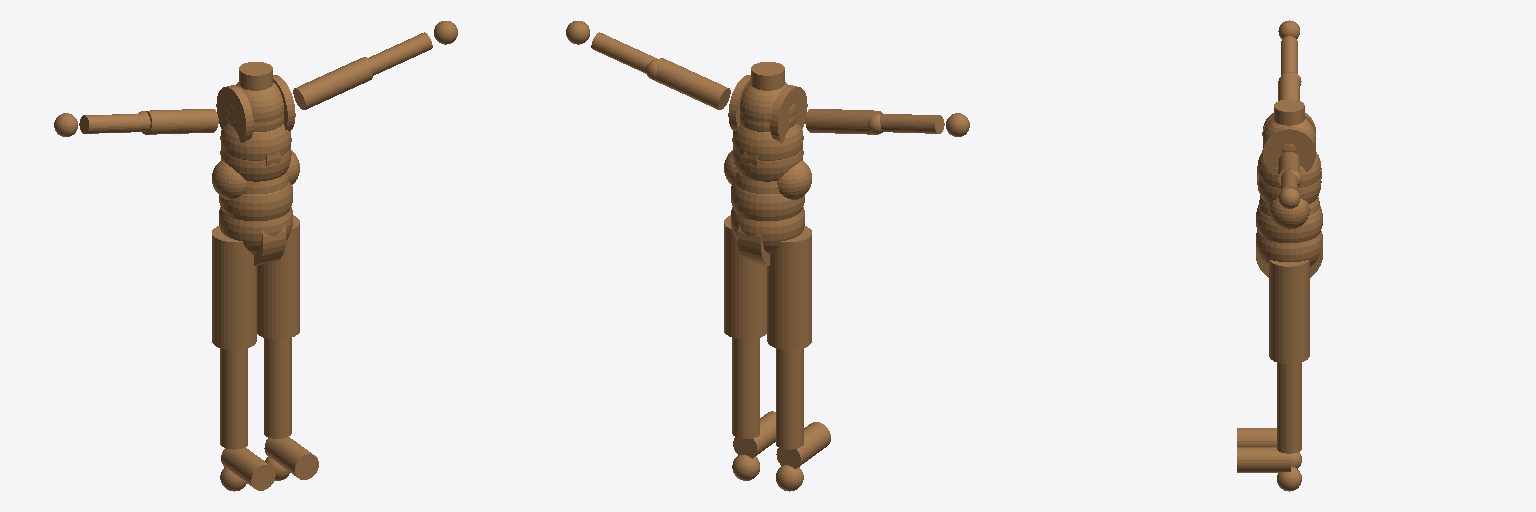
--- Render facts (derived) ---
Views: 3 orthographic renders of the robot side by side, from view 1: azimuth 30°, elevation 25°; view 2: azimuth 150°, elevation 25°; view 3: azimuth 270°, elevation 25°.
Robot: assistive-human-extracted — 75 links, 74 joints (41 revolute, 33 fixed); root link base_link; default pose: joints at zero except 2 at the middle of their limits (joint11 = 1.77, joint18 = -1.77).
Links seen in each view (by area): view 1: link31, link38, link32, link39, link20, link28---top-sphere, base_link---top-sphere, link13, link28---bottom-sphere, link35, link42, link3 (+9 smaller); view 2: link31, link38, link32, link39, link20, link28---top-sphere, base_link---top-sphere, link13, link28---bottom-sphere, link3, link35, link15 (+11 smaller); view 3: link38, link39, link6, link28---bottom-sphere, link28---top-sphere, link42, link38---top-sphere, base_link---top-sphere, link35, link7, base_link---bottom-sphere, link15 (+1 smaller).
Boxes of the visible links, x1=… form: link31: x1=212, y1=226, x2=256, y2=349; link38: x1=257, y1=215, x2=299, y2=339; link32: x1=220, y1=348, x2=247, y2=449; link39: x1=264, y1=338, x2=291, y2=438; link20: x1=293, y1=58, x2=372, y2=109; link28---top-sphere: x1=219, y1=182, x2=292, y2=220; base_link---top-sphere: x1=220, y1=124, x2=291, y2=160; link13: x1=142, y1=109, x2=218, y2=134; link28---bottom-sphere: x1=219, y1=207, x2=292, y2=254; link35: x1=221, y1=447, x2=275, y2=490; link42: x1=264, y1=437, x2=318, y2=479; link3: x1=216, y1=85, x2=253, y2=142; link31: x1=767, y1=226, x2=811, y2=349; link38: x1=724, y1=215, x2=766, y2=339; link32: x1=776, y1=348, x2=803, y2=449; link39: x1=732, y1=338, x2=759, y2=438; link20: x1=654, y1=58, x2=730, y2=109; link28---top-sphere: x1=731, y1=182, x2=804, y2=220; base_link---top-sphere: x1=732, y1=124, x2=803, y2=160; link13: x1=805, y1=109, x2=882, y2=134; link28---bottom-sphere: x1=731, y1=207, x2=804, y2=254; link3: x1=770, y1=85, x2=807, y2=142; link35: x1=776, y1=422, x2=830, y2=468; link15: x1=880, y1=114, x2=944, y2=133; link38: x1=1269, y1=260, x2=1309, y2=363; link39: x1=1277, y1=363, x2=1301, y2=453; link6: x1=1262, y1=126, x2=1315, y2=171; link28---bottom-sphere: x1=1256, y1=230, x2=1322, y2=266; link28---top-sphere: x1=1256, y1=205, x2=1322, y2=242; link42: x1=1237, y1=447, x2=1290, y2=472; link38---top-sphere: x1=1269, y1=199, x2=1309, y2=229; base_link---top-sphere: x1=1257, y1=152, x2=1321, y2=187; link35: x1=1237, y1=428, x2=1276, y2=446; link7: x1=1274, y1=99, x2=1304, y2=125; base_link---bottom-sphere: x1=1257, y1=179, x2=1321, y2=203; link15: x1=1281, y1=36, x2=1297, y2=75.
Size in the robot's own frame: 1.64 by 0.341 by 1.63 metres.
Geometry: only primitive shapes (box / cylinder / sphere) drawn; not drawn: 1 mesh visual (reference in a form the renderer does not follow).

The robot description file, URDF, robot "assistive-human-extracted":
<?xml version="1.0"?>
<robot name="assistive-human-extracted">
  <link name="base_link">
    <visual>
      <origin xyz="0.0 0.0 0.0" rpy="0.0 1.5707963267948966 -0.0"/>
      <geometry>
        <cylinder radius="0.127" length="0.056"/>
      </geometry>
      <material name="color-171-128-85-255">
        <color rgba="0.672940731048584 0.504705548286438 0.336470365524292 1.0"/>
      </material>
    </visual>
    <collision>
      <origin xyz="0.0 0.0 0.0" rpy="0.0 1.5707963267948966 -0.0"/>
      <geometry>
        <cylinder radius="0.127" length="0.056"/>
      </geometry>
    </collision>
    <inertial>
      <origin xyz="0.0 0.0 0.0" rpy="0.0 -0.0 0.0"/>
      <mass value="0.0"/>
      <inertia ixx="0.0" ixy="0.0" ixz="0.0" iyy="0.0" iyz="0.0" izz="0.0"/>
    </inertial>
  </link>
  <link name="base_link---top-sphere">
    <visual>
      <origin xyz="0 0 0" rpy="0.0 -0.0 0.0"/>
      <geometry>
        <sphere radius="0.127"/>
      </geometry>
      <material name="color-171-128-85-255">
        <color rgba="0.672940731048584 0.504705548286438 0.336470365524292 1.0"/>
      </material>
    </visual>
    <collision>
      <origin xyz="0 0 0" rpy="0.0 -0.0 0.0"/>
      <geometry>
        <sphere radius="0.127"/>
      </geometry>
    </collision>
    <inertial>
      <origin xyz="0 0 0" rpy="0.0 -0.0 0.0"/>
      <mass value="0.0"/>
      <inertia ixx="0" ixy="0.0" ixz="0.0" iyy="0" iyz="0.0" izz="0"/>
    </inertial>
  </link>
  <link name="base_link---bottom-sphere">
    <visual>
      <origin xyz="0 0 0" rpy="0.0 -0.0 0.0"/>
      <geometry>
        <sphere radius="0.127"/>
      </geometry>
      <material name="color-171-128-85-255">
        <color rgba="0.672940731048584 0.504705548286438 0.336470365524292 1.0"/>
      </material>
    </visual>
    <collision>
      <origin xyz="0 0 0" rpy="0.0 -0.0 0.0"/>
      <geometry>
        <sphere radius="0.127"/>
      </geometry>
    </collision>
    <inertial>
      <origin xyz="0 0 0" rpy="0.0 -0.0 0.0"/>
      <mass value="0.0"/>
      <inertia ixx="0" ixy="0.0" ixz="0.0" iyy="0" iyz="0.0" izz="0"/>
    </inertial>
  </link>
  <link name="link1">
    <inertial>
      <origin xyz="0.0 0.0 0.0" rpy="0.0 -0.0 0.0"/>
      <mass value="0.0"/>
      <inertia ixx="0.0" ixy="0.0" ixz="0.0" iyy="0.0" iyz="0.0" izz="0.0"/>
    </inertial>
  </link>
  <link name="link2">
    <inertial>
      <origin xyz="0.0 0.0 0.0" rpy="0.0 -0.0 0.0"/>
      <mass value="0.0"/>
      <inertia ixx="0.0" ixy="0.0" ixz="0.0" iyy="0.0" iyz="0.0" izz="0.0"/>
    </inertial>
  </link>
  <link name="link3">
    <visual>
      <origin xyz="-0.0853875 0.0 0.0" rpy="0.0 1.5707963267948966 -0.0"/>
      <geometry>
        <cylinder radius="0.106" length="0.031625"/>
      </geometry>
      <material name="color-171-128-85-255">
        <color rgba="0.672940731048584 0.504705548286438 0.336470365524292 1.0"/>
      </material>
    </visual>
    <collision>
      <origin xyz="-0.08538749814033508 0.0 0.0" rpy="0.0 1.5707963267948966 -0.0"/>
      <geometry>
        <cylinder radius="0.106" length="0.031625"/>
      </geometry>
    </collision>
    <inertial>
      <origin xyz="0.0 0.0 0.0" rpy="0.0 -0.0 0.0"/>
      <mass value="0.0"/>
      <inertia ixx="0.0" ixy="0.0" ixz="0.0" iyy="0.0" iyz="0.0" izz="0.0"/>
    </inertial>
  </link>
  <link name="link3---top-sphere">
    <visual>
      <origin xyz="0 0 0" rpy="0.0 -0.0 0.0"/>
      <geometry>
        <sphere radius="0.106"/>
      </geometry>
      <material name="color-171-128-85-255">
        <color rgba="0.672940731048584 0.504705548286438 0.336470365524292 1.0"/>
      </material>
    </visual>
    <collision>
      <origin xyz="0.0 0.0 0.0" rpy="0.0 -0.0 0.0"/>
      <geometry>
        <sphere radius="0.106"/>
      </geometry>
    </collision>
    <inertial>
      <origin xyz="0 0 0" rpy="0.0 -0.0 0.0"/>
      <mass value="0.0"/>
      <inertia ixx="0" ixy="0.0" ixz="0.0" iyy="0" iyz="0.0" izz="0"/>
    </inertial>
  </link>
  <link name="link3---bottom-sphere">
    <visual>
      <origin xyz="0 0 0" rpy="0.0 -0.0 0.0"/>
      <geometry>
        <sphere radius="0.106"/>
      </geometry>
      <material name="color-171-128-85-255">
        <color rgba="0.672940731048584 0.504705548286438 0.336470365524292 1.0"/>
      </material>
    </visual>
    <collision>
      <origin xyz="0.0 0.0 0.0" rpy="0.0 -0.0 0.0"/>
      <geometry>
        <sphere radius="0.106"/>
      </geometry>
    </collision>
    <inertial>
      <origin xyz="0 0 0" rpy="0.0 -0.0 0.0"/>
      <mass value="0.0"/>
      <inertia ixx="0" ixy="0.0" ixz="0.0" iyy="0" iyz="0.0" izz="0"/>
    </inertial>
  </link>
  <link name="link11">
    <inertial>
      <origin xyz="0.0 0.0 0.0" rpy="0.0 -0.0 0.0"/>
      <mass value="0.0"/>
      <inertia ixx="0.0" ixy="0.0" ixz="0.0" iyy="0.0" iyz="0.0" izz="0.0"/>
    </inertial>
  </link>
  <link name="link12">
    <inertial>
      <origin xyz="0.0 0.0 0.0" rpy="0.0 -0.0 0.0"/>
      <mass value="0.0"/>
      <inertia ixx="0.0" ixy="0.0" ixz="0.0" iyy="0.0" iyz="0.0" izz="0.0"/>
    </inertial>
  </link>
  <link name="link13">
    <visual>
      <origin xyz="0.0 0.0 -0.1395" rpy="0.0 -0.0 0.0"/>
      <geometry>
        <cylinder radius="0.043" length="0.279"/>
      </geometry>
      <material name="color-171-128-85-255">
        <color rgba="0.672940731048584 0.504705548286438 0.336470365524292 1.0"/>
      </material>
    </visual>
    <collision>
      <origin xyz="0.0 0.0 -0.13950000703334808" rpy="0.0 -0.0 0.0"/>
      <geometry>
        <cylinder radius="0.043" length="0.279"/>
      </geometry>
    </collision>
    <inertial>
      <origin xyz="0.0 0.0 0.0" rpy="0.0 -0.0 0.0"/>
      <mass value="0.0"/>
      <inertia ixx="0.0" ixy="0.0" ixz="0.0" iyy="0.0" iyz="0.0" izz="0.0"/>
    </inertial>
  </link>
  <link name="link13---top-sphere">
    <visual>
      <origin xyz="0 0 0" rpy="0.0 -0.0 0.0"/>
      <geometry>
        <sphere radius="0.043"/>
      </geometry>
      <material name="color-171-128-85-255">
        <color rgba="0.672940731048584 0.504705548286438 0.336470365524292 1.0"/>
      </material>
    </visual>
    <collision>
      <origin xyz="0.0 0.0 0.0" rpy="0.0 -0.0 0.0"/>
      <geometry>
        <sphere radius="0.043"/>
      </geometry>
    </collision>
    <inertial>
      <origin xyz="0 0 0" rpy="0.0 -0.0 0.0"/>
      <mass value="0.0"/>
      <inertia ixx="0" ixy="0.0" ixz="0.0" iyy="0" iyz="0.0" izz="0"/>
    </inertial>
  </link>
  <link name="link13---bottom-sphere">
    <visual>
      <origin xyz="0 0 0" rpy="0.0 -0.0 0.0"/>
      <geometry>
        <sphere radius="0.043"/>
      </geometry>
      <material name="color-171-128-85-255">
        <color rgba="0.672940731048584 0.504705548286438 0.336470365524292 1.0"/>
      </material>
    </visual>
    <collision>
      <origin xyz="0.0 0.0 0.0" rpy="0.0 -0.0 0.0"/>
      <geometry>
        <sphere radius="0.043"/>
      </geometry>
    </collision>
    <inertial>
      <origin xyz="0 0 0" rpy="0.0 -0.0 0.0"/>
      <mass value="0.0"/>
      <inertia ixx="0" ixy="0.0" ixz="0.0" iyy="0" iyz="0.0" izz="0"/>
    </inertial>
  </link>
  <link name="link14">
    <visual>
      <origin xyz="0.0 0.01 0.0" rpy="0.0 -0.0 0.0"/>
      <geometry>
        <sphere radius="0.038"/>
      </geometry>
      <material name="color-171-128-85-255">
        <color rgba="0.672940731048584 0.504705548286438 0.336470365524292 1.0"/>
      </material>
    </visual>
    <inertial>
      <origin xyz="0.0 0.0 0.0" rpy="0.0 -0.0 0.0"/>
      <mass value="0.0"/>
      <inertia ixx="0.0" ixy="0.0" ixz="0.0" iyy="0.0" iyz="0.0" izz="0.0"/>
    </inertial>
  </link>
  <link name="link15">
    <visual>
      <origin xyz="0.0 0.0 -0.1285" rpy="0.0 -0.0 0.0"/>
      <geometry>
        <cylinder radius="0.033" length="0.257"/>
      </geometry>
      <material name="color-171-128-85-255">
        <color rgba="0.672940731048584 0.504705548286438 0.336470365524292 1.0"/>
      </material>
    </visual>
    <collision>
      <origin xyz="0.0 0.0 -0.12849999964237213" rpy="0.0 -0.0 0.0"/>
      <geometry>
        <cylinder radius="0.033" length="0.257"/>
      </geometry>
    </collision>
    <inertial>
      <origin xyz="0.0 0.0 0.0" rpy="0.0 -0.0 0.0"/>
      <mass value="0.0"/>
      <inertia ixx="0.0" ixy="0.0" ixz="0.0" iyy="0.0" iyz="0.0" izz="0.0"/>
    </inertial>
  </link>
  <link name="link15---top-sphere">
    <visual>
      <origin xyz="0 0 0" rpy="0.0 -0.0 0.0"/>
      <geometry>
        <sphere radius="0.033"/>
      </geometry>
      <material name="color-171-128-85-255">
        <color rgba="0.672940731048584 0.504705548286438 0.336470365524292 1.0"/>
      </material>
    </visual>
    <collision>
      <origin xyz="0.0 0.0 0.0" rpy="0.0 -0.0 0.0"/>
      <geometry>
        <sphere radius="0.033"/>
      </geometry>
    </collision>
    <inertial>
      <origin xyz="0 0 0" rpy="0.0 -0.0 0.0"/>
      <mass value="0.0"/>
      <inertia ixx="0" ixy="0.0" ixz="0.0" iyy="0" iyz="0.0" izz="0"/>
    </inertial>
  </link>
  <link name="link15---bottom-sphere">
    <visual>
      <origin xyz="0 0 0" rpy="0.0 -0.0 0.0"/>
      <geometry>
        <sphere radius="0.033"/>
      </geometry>
      <material name="color-171-128-85-255">
        <color rgba="0.672940731048584 0.504705548286438 0.336470365524292 1.0"/>
      </material>
    </visual>
    <collision>
      <origin xyz="0.0 0.0 0.0" rpy="0.0 -0.0 0.0"/>
      <geometry>
        <sphere radius="0.033"/>
      </geometry>
    </collision>
    <inertial>
      <origin xyz="0 0 0" rpy="0.0 -0.0 0.0"/>
      <mass value="0.0"/>
      <inertia ixx="0" ixy="0.0" ixz="0.0" iyy="0" iyz="0.0" izz="0"/>
    </inertial>
  </link>
  <link name="link16">
    <inertial>
      <origin xyz="0.0 0.0 0.0" rpy="0.0 -0.0 0.0"/>
      <mass value="0.0"/>
      <inertia ixx="0.0" ixy="0.0" ixz="0.0" iyy="0.0" iyz="0.0" izz="0.0"/>
    </inertial>
  </link>
  <link name="link17">
    <visual>
      <origin xyz="0.0 0.0 -0.043" rpy="0.0 -0.0 0.0"/>
      <geometry>
        <sphere radius="0.043"/>
      </geometry>
      <material name="color-171-128-85-255">
        <color rgba="0.672940731048584 0.504705548286438 0.336470365524292 1.0"/>
      </material>
    </visual>
    <collision>
      <origin xyz="0.0 0.0 -0.0430000014603138" rpy="0.0 -0.0 0.0"/>
      <geometry>
        <sphere radius="0.043"/>
      </geometry>
    </collision>
    <inertial>
      <origin xyz="0.0 0.0 0.0" rpy="0.0 -0.0 0.0"/>
      <mass value="0.0"/>
      <inertia ixx="0.0" ixy="0.0" ixz="0.0" iyy="0.0" iyz="0.0" izz="0.0"/>
    </inertial>
  </link>
  <link name="link4">
    <inertial>
      <origin xyz="0.0 0.0 0.0" rpy="0.0 -0.0 0.0"/>
      <mass value="0.0"/>
      <inertia ixx="0.0" ixy="0.0" ixz="0.0" iyy="0.0" iyz="0.0" izz="0.0"/>
    </inertial>
  </link>
  <link name="link5">
    <inertial>
      <origin xyz="0.0 0.0 0.0" rpy="0.0 -0.0 0.0"/>
      <mass value="0.0"/>
      <inertia ixx="0.0" ixy="0.0" ixz="0.0" iyy="0.0" iyz="0.0" izz="0.0"/>
    </inertial>
  </link>
  <link name="link6">
    <visual>
      <origin xyz="0.0853875 0.0 0.0" rpy="0.0 1.5707963267948966 -0.0"/>
      <geometry>
        <cylinder radius="0.106" length="0.031625"/>
      </geometry>
      <material name="color-171-128-85-255">
        <color rgba="0.672940731048584 0.504705548286438 0.336470365524292 1.0"/>
      </material>
    </visual>
    <collision>
      <origin xyz="0.08538749814033508 0.0 0.0" rpy="0.0 1.5707963267948966 -0.0"/>
      <geometry>
        <cylinder radius="0.106" length="0.031625"/>
      </geometry>
    </collision>
    <inertial>
      <origin xyz="0.0 0.0 0.0" rpy="0.0 -0.0 0.0"/>
      <mass value="0.0"/>
      <inertia ixx="0.0" ixy="0.0" ixz="0.0" iyy="0.0" iyz="0.0" izz="0.0"/>
    </inertial>
  </link>
  <link name="link6---top-sphere">
    <visual>
      <origin xyz="0 0 0" rpy="0.0 -0.0 0.0"/>
      <geometry>
        <sphere radius="0.106"/>
      </geometry>
      <material name="color-171-128-85-255">
        <color rgba="0.672940731048584 0.504705548286438 0.336470365524292 1.0"/>
      </material>
    </visual>
    <collision>
      <origin xyz="0.0 0.0 0.0" rpy="0.0 -0.0 0.0"/>
      <geometry>
        <sphere radius="0.106"/>
      </geometry>
    </collision>
    <inertial>
      <origin xyz="0 0 0" rpy="0.0 -0.0 0.0"/>
      <mass value="0.0"/>
      <inertia ixx="0" ixy="0.0" ixz="0.0" iyy="0" iyz="0.0" izz="0"/>
    </inertial>
  </link>
  <link name="link6---bottom-sphere">
    <visual>
      <origin xyz="0 0 0" rpy="0.0 -0.0 0.0"/>
      <geometry>
        <sphere radius="0.106"/>
      </geometry>
      <material name="color-171-128-85-255">
        <color rgba="0.672940731048584 0.504705548286438 0.336470365524292 1.0"/>
      </material>
    </visual>
    <collision>
      <origin xyz="0.0 0.0 0.0" rpy="0.0 -0.0 0.0"/>
      <geometry>
        <sphere radius="0.106"/>
      </geometry>
    </collision>
    <inertial>
      <origin xyz="0 0 0" rpy="0.0 -0.0 0.0"/>
      <mass value="0.0"/>
      <inertia ixx="0" ixy="0.0" ixz="0.0" iyy="0" iyz="0.0" izz="0"/>
    </inertial>
  </link>
  <link name="link18">
    <inertial>
      <origin xyz="0.0 0.0 0.0" rpy="0.0 -0.0 0.0"/>
      <mass value="0.0"/>
      <inertia ixx="0.0" ixy="0.0" ixz="0.0" iyy="0.0" iyz="0.0" izz="0.0"/>
    </inertial>
  </link>
  <link name="link19">
    <inertial>
      <origin xyz="0.0 0.0 0.0" rpy="0.0 -0.0 0.0"/>
      <mass value="0.0"/>
      <inertia ixx="0.0" ixy="0.0" ixz="0.0" iyy="0.0" iyz="0.0" izz="0.0"/>
    </inertial>
  </link>
  <link name="link20">
    <visual>
      <origin xyz="0.0 0.0 -0.1395" rpy="0.0 -0.0 0.0"/>
      <geometry>
        <cylinder radius="0.043" length="0.279"/>
      </geometry>
      <material name="color-171-128-85-255">
        <color rgba="0.672940731048584 0.504705548286438 0.336470365524292 1.0"/>
      </material>
    </visual>
    <collision>
      <origin xyz="0.0 0.0 -0.13950000703334808" rpy="0.0 -0.0 0.0"/>
      <geometry>
        <cylinder radius="0.043" length="0.279"/>
      </geometry>
    </collision>
    <inertial>
      <origin xyz="0.0 0.0 0.0" rpy="0.0 -0.0 0.0"/>
      <mass value="0.0"/>
      <inertia ixx="0.0" ixy="0.0" ixz="0.0" iyy="0.0" iyz="0.0" izz="0.0"/>
    </inertial>
  </link>
  <link name="link20---top-sphere">
    <visual>
      <origin xyz="0 0 0" rpy="0.0 -0.0 0.0"/>
      <geometry>
        <sphere radius="0.043"/>
      </geometry>
      <material name="color-171-128-85-255">
        <color rgba="0.672940731048584 0.504705548286438 0.336470365524292 1.0"/>
      </material>
    </visual>
    <collision>
      <origin xyz="0.0 0.0 0.0" rpy="0.0 -0.0 0.0"/>
      <geometry>
        <sphere radius="0.043"/>
      </geometry>
    </collision>
    <inertial>
      <origin xyz="0 0 0" rpy="0.0 -0.0 0.0"/>
      <mass value="0.0"/>
      <inertia ixx="0" ixy="0.0" ixz="0.0" iyy="0" iyz="0.0" izz="0"/>
    </inertial>
  </link>
  <link name="link20---bottom-sphere">
    <visual>
      <origin xyz="0 0 0" rpy="0.0 -0.0 0.0"/>
      <geometry>
        <sphere radius="0.043"/>
      </geometry>
      <material name="color-171-128-85-255">
        <color rgba="0.672940731048584 0.504705548286438 0.336470365524292 1.0"/>
      </material>
    </visual>
    <collision>
      <origin xyz="0.0 0.0 0.0" rpy="0.0 -0.0 0.0"/>
      <geometry>
        <sphere radius="0.043"/>
      </geometry>
    </collision>
    <inertial>
      <origin xyz="0 0 0" rpy="0.0 -0.0 0.0"/>
      <mass value="0.0"/>
      <inertia ixx="0" ixy="0.0" ixz="0.0" iyy="0" iyz="0.0" izz="0"/>
    </inertial>
  </link>
  <link name="link21">
    <visual>
      <origin xyz="0.0 0.01 0.0" rpy="0.0 -0.0 0.0"/>
      <geometry>
        <sphere radius="0.038"/>
      </geometry>
      <material name="color-171-128-85-255">
        <color rgba="0.672940731048584 0.504705548286438 0.336470365524292 1.0"/>
      </material>
    </visual>
    <inertial>
      <origin xyz="0.0 0.0 0.0" rpy="0.0 -0.0 0.0"/>
      <mass value="0.0"/>
      <inertia ixx="0.0" ixy="0.0" ixz="0.0" iyy="0.0" iyz="0.0" izz="0.0"/>
    </inertial>
  </link>
  <link name="link22">
    <visual>
      <origin xyz="0.0 0.0 -0.1285" rpy="0.0 -0.0 0.0"/>
      <geometry>
        <cylinder radius="0.033" length="0.257"/>
      </geometry>
      <material name="color-171-128-85-255">
        <color rgba="0.672940731048584 0.504705548286438 0.336470365524292 1.0"/>
      </material>
    </visual>
    <collision>
      <origin xyz="0.0 0.0 -0.12849999964237213" rpy="0.0 -0.0 0.0"/>
      <geometry>
        <cylinder radius="0.033" length="0.257"/>
      </geometry>
    </collision>
    <inertial>
      <origin xyz="0.0 0.0 0.0" rpy="0.0 -0.0 0.0"/>
      <mass value="0.0"/>
      <inertia ixx="0.0" ixy="0.0" ixz="0.0" iyy="0.0" iyz="0.0" izz="0.0"/>
    </inertial>
  </link>
  <link name="link22---top-sphere">
    <visual>
      <origin xyz="0 0 0" rpy="0.0 -0.0 0.0"/>
      <geometry>
        <sphere radius="0.033"/>
      </geometry>
      <material name="color-171-128-85-255">
        <color rgba="0.672940731048584 0.504705548286438 0.336470365524292 1.0"/>
      </material>
    </visual>
    <collision>
      <origin xyz="0.0 0.0 0.0" rpy="0.0 -0.0 0.0"/>
      <geometry>
        <sphere radius="0.033"/>
      </geometry>
    </collision>
    <inertial>
      <origin xyz="0 0 0" rpy="0.0 -0.0 0.0"/>
      <mass value="0.0"/>
      <inertia ixx="0" ixy="0.0" ixz="0.0" iyy="0" iyz="0.0" izz="0"/>
    </inertial>
  </link>
  <link name="link22---bottom-sphere">
    <visual>
      <origin xyz="0 0 0" rpy="0.0 -0.0 0.0"/>
      <geometry>
        <sphere radius="0.033"/>
      </geometry>
      <material name="color-171-128-85-255">
        <color rgba="0.672940731048584 0.504705548286438 0.336470365524292 1.0"/>
      </material>
    </visual>
    <collision>
      <origin xyz="0.0 0.0 0.0" rpy="0.0 -0.0 0.0"/>
      <geometry>
        <sphere radius="0.033"/>
      </geometry>
    </collision>
    <inertial>
      <origin xyz="0 0 0" rpy="0.0 -0.0 0.0"/>
      <mass value="0.0"/>
      <inertia ixx="0" ixy="0.0" ixz="0.0" iyy="0" iyz="0.0" izz="0"/>
    </inertial>
  </link>
  <link name="link23">
    <inertial>
      <origin xyz="0.0 0.0 0.0" rpy="0.0 -0.0 0.0"/>
      <mass value="0.0"/>
      <inertia ixx="0.0" ixy="0.0" ixz="0.0" iyy="0.0" iyz="0.0" izz="0.0"/>
    </inertial>
  </link>
  <link name="link24">
    <visual>
      <origin xyz="0.0 0.0 -0.043" rpy="0.0 -0.0 0.0"/>
      <geometry>
        <sphere radius="0.043"/>
      </geometry>
      <material name="color-171-128-85-255">
        <color rgba="0.672940731048584 0.504705548286438 0.336470365524292 1.0"/>
      </material>
    </visual>
    <collision>
      <origin xyz="0.0 0.0 -0.0430000014603138" rpy="0.0 -0.0 0.0"/>
      <geometry>
        <sphere radius="0.043"/>
      </geometry>
    </collision>
    <inertial>
      <origin xyz="0.0 0.0 0.0" rpy="0.0 -0.0 0.0"/>
      <mass value="0.0"/>
      <inertia ixx="0.0" ixy="0.0" ixz="0.0" iyy="0.0" iyz="0.0" izz="0.0"/>
    </inertial>
  </link>
  <link name="link7">
    <visual>
      <origin xyz="0.0 0.0 0.09000000000000002" rpy="0.0 -0.0 0.0"/>
      <geometry>
        <cylinder radius="0.06" length="0.124"/>
      </geometry>
      <material name="color-171-128-85-255">
        <color rgba="0.672940731048584 0.504705548286438 0.336470365524292 1.0"/>
      </material>
    </visual>
    <collision>
      <origin xyz="0.0 0.0 0.09000000357627869" rpy="0.0 -0.0 0.0"/>
      <geometry>
        <cylinder radius="0.06" length="0.124"/>
      </geometry>
    </collision>
    <inertial>
      <origin xyz="0.0 0.0 0.0" rpy="0.0 -0.0 0.0"/>
      <mass value="0.0"/>
      <inertia ixx="0.0" ixy="0.0" ixz="0.0" iyy="0.0" iyz="0.0" izz="0.0"/>
    </inertial>
  </link>
  <link name="link7---top-sphere">
    <visual>
      <origin xyz="0 0 0" rpy="0.0 -0.0 0.0"/>
      <geometry>
        <sphere radius="0.06"/>
      </geometry>
      <material name="color-171-128-85-255">
        <color rgba="0.672940731048584 0.504705548286438 0.336470365524292 1.0"/>
      </material>
    </visual>
    <collision>
      <origin xyz="0.0 0.0 0.0" rpy="0.0 -0.0 0.0"/>
      <geometry>
        <sphere radius="0.06"/>
      </geometry>
    </collision>
    <inertial>
      <origin xyz="0 0 0" rpy="0.0 -0.0 0.0"/>
      <mass value="0.0"/>
      <inertia ixx="0" ixy="0.0" ixz="0.0" iyy="0" iyz="0.0" izz="0"/>
    </inertial>
  </link>
  <link name="link7---bottom-sphere">
    <visual>
      <origin xyz="0 0 0" rpy="0.0 -0.0 0.0"/>
      <geometry>
        <sphere radius="0.06"/>
      </geometry>
      <material name="color-171-128-85-255">
        <color rgba="0.672940731048584 0.504705548286438 0.336470365524292 1.0"/>
      </material>
    </visual>
    <collision>
      <origin xyz="0.0 0.0 0.0" rpy="0.0 -0.0 0.0"/>
      <geometry>
        <sphere radius="0.06"/>
      </geometry>
    </collision>
    <inertial>
      <origin xyz="0 0 0" rpy="0.0 -0.0 0.0"/>
      <mass value="0.0"/>
      <inertia ixx="0" ixy="0.0" ixz="0.0" iyy="0" iyz="0.0" izz="0"/>
    </inertial>
  </link>
  <link name="link8">
    <inertial>
      <origin xyz="0.0 0.0 0.0" rpy="0.0 -0.0 0.0"/>
      <mass value="0.0"/>
      <inertia ixx="0.0" ixy="0.0" ixz="0.0" iyy="0.0" iyz="0.0" izz="0.0"/>
    </inertial>
  </link>
  <link name="link9">
    <inertial>
      <origin xyz="0.0 0.0 0.0" rpy="0.0 -0.0 0.0"/>
      <mass value="0.0"/>
      <inertia ixx="0.0" ixy="0.0" ixz="0.0" iyy="0.0" iyz="0.0" izz="0.0"/>
    </inertial>
  </link>
  <link name="link10">
    <visual>
      <origin xyz="0.09 0.08 -0.060000000000000005" rpy="1.5707963267948963 -0.0 0.0"/>
      <geometry>
        <mesh filename="[local-path]/multitask-personalization/venv/lib/python3.10/site-packages/assistive_gym/envs/assets/head_female_male/BaseHeadMeshes_v5_male_cropped_reduced_compressed.obj" scale="0.89 0.89 0.89"/>
      </geometry>
      <material name="color-171-128-85-255">
        <color rgba="0.672940731048584 0.504705548286438 0.336470365524292 1.0"/>
      </material>
    </visual>
    <collision>
      <origin xyz="0.09000000357627869 0.07999999821186066 -0.05999999865889549" rpy="1.5707963267948966 -0.0 0.0"/>
      <geometry>
        <sphere radius="0.89"/>
      </geometry>
    </collision>
    <inertial>
      <origin xyz="0.0 0.0 0.0" rpy="0.0 -0.0 0.0"/>
      <mass value="0.0"/>
      <inertia ixx="0.0" ixy="0.0" ixz="0.0" iyy="0.0" iyz="0.0" izz="0.0"/>
    </inertial>
  </link>
  <link name="link25">
    <visual>
      <origin xyz="0.0 0.0 0.0" rpy="0.0 1.5707963267948966 -0.0"/>
      <geometry>
        <cylinder radius="0.1205" length="0.049"/>
      </geometry>
      <material name="color-171-128-85-255">
        <color rgba="0.672940731048584 0.504705548286438 0.336470365524292 1.0"/>
      </material>
    </visual>
    <collision>
      <origin xyz="0.0 0.0 0.0" rpy="0.0 1.5707963267948966 -0.0"/>
      <geometry>
        <cylinder radius="0.1205" length="0.049"/>
      </geometry>
    </collision>
    <inertial>
      <origin xyz="0.0 0.0 0.0" rpy="0.0 -0.0 0.0"/>
      <mass value="0.0"/>
      <inertia ixx="0.0" ixy="0.0" ixz="0.0" iyy="0.0" iyz="0.0" izz="0.0"/>
    </inertial>
  </link>
  <link name="link25---top-sphere">
    <visual>
      <origin xyz="0 0 0" rpy="0.0 -0.0 0.0"/>
      <geometry>
        <sphere radius="0.1205"/>
      </geometry>
      <material name="color-171-128-85-255">
        <color rgba="0.672940731048584 0.504705548286438 0.336470365524292 1.0"/>
      </material>
    </visual>
    <collision>
      <origin xyz="0.0 0.0 0.0" rpy="0.0 -0.0 0.0"/>
      <geometry>
        <sphere radius="0.1205"/>
      </geometry>
    </collision>
    <inertial>
      <origin xyz="0 0 0" rpy="0.0 -0.0 0.0"/>
      <mass value="0.0"/>
      <inertia ixx="0" ixy="0.0" ixz="0.0" iyy="0" iyz="0.0" izz="0"/>
    </inertial>
  </link>
  <link name="link25---bottom-sphere">
    <visual>
      <origin xyz="0 0 0" rpy="0.0 -0.0 0.0"/>
      <geometry>
        <sphere radius="0.1205"/>
      </geometry>
      <material name="color-171-128-85-255">
        <color rgba="0.672940731048584 0.504705548286438 0.336470365524292 1.0"/>
      </material>
    </visual>
    <collision>
      <origin xyz="0.0 0.0 0.0" rpy="0.0 -0.0 0.0"/>
      <geometry>
        <sphere radius="0.1205"/>
      </geometry>
    </collision>
    <inertial>
      <origin xyz="0 0 0" rpy="0.0 -0.0 0.0"/>
      <mass value="0.0"/>
      <inertia ixx="0" ixy="0.0" ixz="0.0" iyy="0" iyz="0.0" izz="0"/>
    </inertial>
  </link>
  <link name="link26">
    <inertial>
      <origin xyz="0.0 0.0 0.0" rpy="0.0 -0.0 0.0"/>
      <mass value="0.0"/>
      <inertia ixx="0.0" ixy="0.0" ixz="0.0" iyy="0.0" iyz="0.0" izz="0.0"/>
    </inertial>
  </link>
  <link name="link27">
    <inertial>
      <origin xyz="0.0 0.0 0.0" rpy="0.0 -0.0 0.0"/>
      <mass value="0.0"/>
      <inertia ixx="0.0" ixy="0.0" ixz="0.0" iyy="0.0" iyz="0.0" izz="0.0"/>
    </inertial>
  </link>
  <link name="link28">
    <visual>
      <origin xyz="0.0 0.0 -0.08125" rpy="0.0 1.5707963267948966 -0.0"/>
      <geometry>
        <cylinder radius="0.1335" length="0.094"/>
      </geometry>
      <material name="color-171-128-85-255">
        <color rgba="0.672940731048584 0.504705548286438 0.336470365524292 1.0"/>
      </material>
    </visual>
    <collision>
      <origin xyz="0.0 0.0 -0.08124999701976776" rpy="0.0 1.5707963267948966 -0.0"/>
      <geometry>
        <cylinder radius="0.1335" length="0.094"/>
      </geometry>
    </collision>
    <inertial>
      <origin xyz="0.0 0.0 0.0" rpy="0.0 -0.0 0.0"/>
      <mass value="0.0"/>
      <inertia ixx="0.0" ixy="0.0" ixz="0.0" iyy="0.0" iyz="0.0" izz="0.0"/>
    </inertial>
  </link>
  <link name="link28---top-sphere">
    <visual>
      <origin xyz="0 0 0" rpy="0.0 -0.0 0.0"/>
      <geometry>
        <sphere radius="0.1335"/>
      </geometry>
      <material name="color-171-128-85-255">
        <color rgba="0.672940731048584 0.504705548286438 0.336470365524292 1.0"/>
      </material>
    </visual>
    <collision>
      <origin xyz="0.0 0.0 0.0" rpy="0.0 -0.0 0.0"/>
      <geometry>
        <sphere radius="0.1335"/>
      </geometry>
    </collision>
    <inertial>
      <origin xyz="0 0 0" rpy="0.0 -0.0 0.0"/>
      <mass value="0.0"/>
      <inertia ixx="0" ixy="0.0" ixz="0.0" iyy="0" iyz="0.0" izz="0"/>
    </inertial>
  </link>
  <link name="link28---bottom-sphere">
    <visual>
      <origin xyz="0 0 0" rpy="0.0 -0.0 0.0"/>
      <geometry>
        <sphere radius="0.1335"/>
      </geometry>
      <material name="color-171-128-85-255">
        <color rgba="0.672940731048584 0.504705548286438 0.336470365524292 1.0"/>
      </material>
    </visual>
    <collision>
      <origin xyz="0.0 0.0 0.0" rpy="0.0 -0.0 0.0"/>
      <geometry>
        <sphere radius="0.1335"/>
      </geometry>
    </collision>
    <inertial>
      <origin xyz="0 0 0" rpy="0.0 -0.0 0.0"/>
      <mass value="0.0"/>
      <inertia ixx="0" ixy="0.0" ixz="0.0" iyy="0" iyz="0.0" izz="0"/>
    </inertial>
  </link>
  <link name="link29">
    <inertial>
      <origin xyz="0.0 0.0 0.0" rpy="0.0 -0.0 0.0"/>
      <mass value="0.0"/>
      <inertia ixx="0.0" ixy="0.0" ixz="0.0" iyy="0.0" iyz="0.0" izz="0.0"/>
    </inertial>
  </link>
  <link name="link30">
    <inertial>
      <origin xyz="0.0 0.0 0.0" rpy="0.0 -0.0 0.0"/>
      <mass value="0.0"/>
      <inertia ixx="0.0" ixy="0.0" ixz="0.0" iyy="0.0" iyz="0.0" izz="0.0"/>
    </inertial>
  </link>
  <link name="link31">
    <visual>
      <origin xyz="0.0 0.0 -0.212" rpy="0.0 -0.0 0.0"/>
      <geometry>
        <cylinder radius="0.08" length="0.424"/>
      </geometry>
      <material name="color-171-128-85-255">
        <color rgba="0.672940731048584 0.504705548286438 0.336470365524292 1.0"/>
      </material>
    </visual>
    <collision>
      <origin xyz="0.0 0.0 -0.21199999749660492" rpy="0.0 -0.0 0.0"/>
      <geometry>
        <cylinder radius="0.08" length="0.424"/>
      </geometry>
    </collision>
    <inertial>
      <origin xyz="0.0 0.0 0.0" rpy="0.0 -0.0 0.0"/>
      <mass value="0.0"/>
      <inertia ixx="0.0" ixy="0.0" ixz="0.0" iyy="0.0" iyz="0.0" izz="0.0"/>
    </inertial>
  </link>
  <link name="link31---top-sphere">
    <visual>
      <origin xyz="0 0 0" rpy="0.0 -0.0 0.0"/>
      <geometry>
        <sphere radius="0.08"/>
      </geometry>
      <material name="color-171-128-85-255">
        <color rgba="0.672940731048584 0.504705548286438 0.336470365524292 1.0"/>
      </material>
    </visual>
    <collision>
      <origin xyz="0.0 0.0 0.0" rpy="0.0 -0.0 0.0"/>
      <geometry>
        <sphere radius="0.08"/>
      </geometry>
    </collision>
    <inertial>
      <origin xyz="0 0 0" rpy="0.0 -0.0 0.0"/>
      <mass value="0.0"/>
      <inertia ixx="0" ixy="0.0" ixz="0.0" iyy="0" iyz="0.0" izz="0"/>
    </inertial>
  </link>
  <link name="link31---bottom-sphere">
    <visual>
      <origin xyz="0 0 0" rpy="0.0 -0.0 0.0"/>
      <geometry>
        <sphere radius="0.08"/>
      </geometry>
      <material name="color-171-128-85-255">
        <color rgba="0.672940731048584 0.504705548286438 0.336470365524292 1.0"/>
      </material>
    </visual>
    <collision>
      <origin xyz="0.0 0.0 0.0" rpy="0.0 -0.0 0.0"/>
      <geometry>
        <sphere radius="0.08"/>
      </geometry>
    </collision>
    <inertial>
      <origin xyz="0 0 0" rpy="0.0 -0.0 0.0"/>
      <mass value="0.0"/>
      <inertia ixx="0" ixy="0.0" ixz="0.0" iyy="0" iyz="0.0" izz="0"/>
    </inertial>
  </link>
  <link name="link32">
    <visual>
      <origin xyz="0.0 0.0 -0.2015" rpy="0.0 -0.0 0.0"/>
      <geometry>
        <cylinder radius="0.05" length="0.403"/>
      </geometry>
      <material name="color-171-128-85-255">
        <color rgba="0.672940731048584 0.504705548286438 0.336470365524292 1.0"/>
      </material>
    </visual>
    <collision>
      <origin xyz="0.0 0.0 -0.20149999856948853" rpy="0.0 -0.0 0.0"/>
      <geometry>
        <cylinder radius="0.05" length="0.403"/>
      </geometry>
    </collision>
    <inertial>
      <origin xyz="0.0 0.0 0.0" rpy="0.0 -0.0 0.0"/>
      <mass value="0.0"/>
      <inertia ixx="0.0" ixy="0.0" ixz="0.0" iyy="0.0" iyz="0.0" izz="0.0"/>
    </inertial>
  </link>
  <link name="link32---top-sphere">
    <visual>
      <origin xyz="0 0 0" rpy="0.0 -0.0 0.0"/>
      <geometry>
        <sphere radius="0.05"/>
      </geometry>
      <material name="color-171-128-85-255">
        <color rgba="0.672940731048584 0.504705548286438 0.336470365524292 1.0"/>
      </material>
    </visual>
    <collision>
      <origin xyz="0.0 0.0 0.0" rpy="0.0 -0.0 0.0"/>
      <geometry>
        <sphere radius="0.05"/>
      </geometry>
    </collision>
    <inertial>
      <origin xyz="0 0 0" rpy="0.0 -0.0 0.0"/>
      <mass value="0.0"/>
      <inertia ixx="0" ixy="0.0" ixz="0.0" iyy="0" iyz="0.0" izz="0"/>
    </inertial>
  </link>
  <link name="link32---bottom-sphere">
    <visual>
      <origin xyz="0 0 0" rpy="0.0 -0.0 0.0"/>
      <geometry>
        <sphere radius="0.05"/>
      </geometry>
      <material name="color-171-128-85-255">
        <color rgba="0.672940731048584 0.504705548286438 0.336470365524292 1.0"/>
      </material>
    </visual>
    <collision>
      <origin xyz="0.0 0.0 0.0" rpy="0.0 -0.0 0.0"/>
      <geometry>
        <sphere radius="0.05"/>
      </geometry>
    </collision>
    <inertial>
      <origin xyz="0 0 0" rpy="0.0 -0.0 0.0"/>
      <mass value="0.0"/>
      <inertia ixx="0" ixy="0.0" ixz="0.0" iyy="0" iyz="0.0" izz="0"/>
    </inertial>
  </link>
  <link name="link33">
    <inertial>
      <origin xyz="0.0 0.0 0.0" rpy="0.0 -0.0 0.0"/>
      <mass value="0.0"/>
      <inertia ixx="0.0" ixy="0.0" ixz="0.0" iyy="0.0" iyz="0.0" izz="0.0"/>
    </inertial>
  </link>
  <link name="link34">
    <inertial>
      <origin xyz="0.0 0.0 0.0" rpy="0.0 -0.0 0.0"/>
      <mass value="0.0"/>
      <inertia ixx="0.0" ixy="0.0" ixz="0.0" iyy="0.0" iyz="0.0" izz="0.0"/>
    </inertial>
  </link>
  <link name="link35">
    <visual>
      <origin xyz="0.0 -0.1 -0.025" rpy="1.5707963267948963 -0.0 0.0"/>
      <geometry>
        <cylinder radius="0.05" length="0.215"/>
      </geometry>
      <material name="color-171-128-85-255">
        <color rgba="0.672940731048584 0.504705548286438 0.336470365524292 1.0"/>
      </material>
    </visual>
    <collision>
      <origin xyz="0.0 -0.10000000149011612 -0.02500000037252903" rpy="1.5707963267948966 -0.0 0.0"/>
      <geometry>
        <cylinder radius="0.05" length="0.215"/>
      </geometry>
    </collision>
    <inertial>
      <origin xyz="0.0 0.0 0.0" rpy="0.0 -0.0 0.0"/>
      <mass value="0.0"/>
      <inertia ixx="0.0" ixy="0.0" ixz="0.0" iyy="0.0" iyz="0.0" izz="0.0"/>
    </inertial>
  </link>
  <link name="link35---top-sphere">
    <visual>
      <origin xyz="0 0 0" rpy="0.0 -0.0 0.0"/>
      <geometry>
        <sphere radius="0.05"/>
      </geometry>
      <material name="color-171-128-85-255">
        <color rgba="0.672940731048584 0.504705548286438 0.336470365524292 1.0"/>
      </material>
    </visual>
    <collision>
      <origin xyz="0.0 0.0 0.0" rpy="0.0 -0.0 0.0"/>
      <geometry>
        <sphere radius="0.05"/>
      </geometry>
    </collision>
    <inertial>
      <origin xyz="0 0 0" rpy="0.0 -0.0 0.0"/>
      <mass value="0.0"/>
      <inertia ixx="0" ixy="0.0" ixz="0.0" iyy="0" iyz="0.0" izz="0"/>
    </inertial>
  </link>
  <link name="link35---bottom-sphere">
    <visual>
      <origin xyz="0 0 0" rpy="0.0 -0.0 0.0"/>
      <geometry>
        <sphere radius="0.05"/>
      </geometry>
      <material name="color-171-128-85-255">
        <color rgba="0.672940731048584 0.504705548286438 0.336470365524292 1.0"/>
      </material>
    </visual>
    <collision>
      <origin xyz="0.0 0.0 0.0" rpy="0.0 -0.0 0.0"/>
      <geometry>
        <sphere radius="0.05"/>
      </geometry>
    </collision>
    <inertial>
      <origin xyz="0 0 0" rpy="0.0 -0.0 0.0"/>
      <mass value="0.0"/>
      <inertia ixx="0" ixy="0.0" ixz="0.0" iyy="0" iyz="0.0" izz="0"/>
    </inertial>
  </link>
  <link name="link36">
    <inertial>
      <origin xyz="0.0 0.0 0.0" rpy="0.0 -0.0 0.0"/>
      <mass value="0.0"/>
      <inertia ixx="0.0" ixy="0.0" ixz="0.0" iyy="0.0" iyz="0.0" izz="0.0"/>
    </inertial>
  </link>
  <link name="link37">
    <inertial>
      <origin xyz="0.0 0.0 0.0" rpy="0.0 -0.0 0.0"/>
      <mass value="0.0"/>
      <inertia ixx="0.0" ixy="0.0" ixz="0.0" iyy="0.0" iyz="0.0" izz="0.0"/>
    </inertial>
  </link>
  <link name="link38">
    <visual>
      <origin xyz="0.0 0.0 -0.212" rpy="0.0 -0.0 0.0"/>
      <geometry>
        <cylinder radius="0.08" length="0.424"/>
      </geometry>
      <material name="color-171-128-85-255">
        <color rgba="0.672940731048584 0.504705548286438 0.336470365524292 1.0"/>
      </material>
    </visual>
    <collision>
      <origin xyz="0.0 0.0 -0.21199999749660492" rpy="0.0 -0.0 0.0"/>
      <geometry>
        <cylinder radius="0.08" length="0.424"/>
      </geometry>
    </collision>
    <inertial>
      <origin xyz="0.0 0.0 0.0" rpy="0.0 -0.0 0.0"/>
      <mass value="0.0"/>
      <inertia ixx="0.0" ixy="0.0" ixz="0.0" iyy="0.0" iyz="0.0" izz="0.0"/>
    </inertial>
  </link>
  <link name="link38---top-sphere">
    <visual>
      <origin xyz="0 0 0" rpy="0.0 -0.0 0.0"/>
      <geometry>
        <sphere radius="0.08"/>
      </geometry>
      <material name="color-171-128-85-255">
        <color rgba="0.672940731048584 0.504705548286438 0.336470365524292 1.0"/>
      </material>
    </visual>
    <collision>
      <origin xyz="0.0 0.0 0.0" rpy="0.0 -0.0 0.0"/>
      <geometry>
        <sphere radius="0.08"/>
      </geometry>
    </collision>
    <inertial>
      <origin xyz="0 0 0" rpy="0.0 -0.0 0.0"/>
      <mass value="0.0"/>
      <inertia ixx="0" ixy="0.0" ixz="0.0" iyy="0" iyz="0.0" izz="0"/>
    </inertial>
  </link>
  <link name="link38---bottom-sphere">
    <visual>
      <origin xyz="0 0 0" rpy="0.0 -0.0 0.0"/>
      <geometry>
        <sphere radius="0.08"/>
      </geometry>
      <material name="color-171-128-85-255">
        <color rgba="0.672940731048584 0.504705548286438 0.336470365524292 1.0"/>
      </material>
    </visual>
    <collision>
      <origin xyz="0.0 0.0 0.0" rpy="0.0 -0.0 0.0"/>
      <geometry>
        <sphere radius="0.08"/>
      </geometry>
    </collision>
    <inertial>
      <origin xyz="0 0 0" rpy="0.0 -0.0 0.0"/>
      <mass value="0.0"/>
      <inertia ixx="0" ixy="0.0" ixz="0.0" iyy="0" iyz="0.0" izz="0"/>
    </inertial>
  </link>
  <link name="link39">
    <visual>
      <origin xyz="0.0 0.0 -0.2015" rpy="0.0 -0.0 0.0"/>
      <geometry>
        <cylinder radius="0.05" length="0.403"/>
      </geometry>
      <material name="color-171-128-85-255">
        <color rgba="0.672940731048584 0.504705548286438 0.336470365524292 1.0"/>
      </material>
    </visual>
    <collision>
      <origin xyz="0.0 0.0 -0.20149999856948853" rpy="0.0 -0.0 0.0"/>
      <geometry>
        <cylinder radius="0.05" length="0.403"/>
      </geometry>
    </collision>
    <inertial>
      <origin xyz="0.0 0.0 0.0" rpy="0.0 -0.0 0.0"/>
      <mass value="0.0"/>
      <inertia ixx="0.0" ixy="0.0" ixz="0.0" iyy="0.0" iyz="0.0" izz="0.0"/>
    </inertial>
  </link>
  <link name="link39---top-sphere">
    <visual>
      <origin xyz="0 0 0" rpy="0.0 -0.0 0.0"/>
      <geometry>
        <sphere radius="0.05"/>
      </geometry>
      <material name="color-171-128-85-255">
        <color rgba="0.672940731048584 0.504705548286438 0.336470365524292 1.0"/>
      </material>
    </visual>
    <collision>
      <origin xyz="0.0 0.0 0.0" rpy="0.0 -0.0 0.0"/>
      <geometry>
        <sphere radius="0.05"/>
      </geometry>
    </collision>
    <inertial>
      <origin xyz="0 0 0" rpy="0.0 -0.0 0.0"/>
      <mass value="0.0"/>
      <inertia ixx="0" ixy="0.0" ixz="0.0" iyy="0" iyz="0.0" izz="0"/>
    </inertial>
  </link>
  <link name="link39---bottom-sphere">
    <visual>
      <origin xyz="0 0 0" rpy="0.0 -0.0 0.0"/>
      <geometry>
        <sphere radius="0.05"/>
      </geometry>
      <material name="color-171-128-85-255">
        <color rgba="0.672940731048584 0.504705548286438 0.336470365524292 1.0"/>
      </material>
    </visual>
    <collision>
      <origin xyz="0.0 0.0 0.0" rpy="0.0 -0.0 0.0"/>
      <geometry>
        <sphere radius="0.05"/>
      </geometry>
    </collision>
    <inertial>
      <origin xyz="0 0 0" rpy="0.0 -0.0 0.0"/>
      <mass value="0.0"/>
      <inertia ixx="0" ixy="0.0" ixz="0.0" iyy="0" iyz="0.0" izz="0"/>
    </inertial>
  </link>
  <link name="link40">
    <inertial>
      <origin xyz="0.0 0.0 0.0" rpy="0.0 -0.0 0.0"/>
      <mass value="0.0"/>
      <inertia ixx="0.0" ixy="0.0" ixz="0.0" iyy="0.0" iyz="0.0" izz="0.0"/>
    </inertial>
  </link>
  <link name="link41">
    <inertial>
      <origin xyz="0.0 0.0 0.0" rpy="0.0 -0.0 0.0"/>
      <mass value="0.0"/>
      <inertia ixx="0.0" ixy="0.0" ixz="0.0" iyy="0.0" iyz="0.0" izz="0.0"/>
    </inertial>
  </link>
  <link name="link42">
    <visual>
      <origin xyz="0.0 -0.1 -0.025" rpy="1.5707963267948963 -0.0 0.0"/>
      <geometry>
        <cylinder radius="0.05" length="0.215"/>
      </geometry>
      <material name="color-171-128-85-255">
        <color rgba="0.672940731048584 0.504705548286438 0.336470365524292 1.0"/>
      </material>
    </visual>
    <collision>
      <origin xyz="0.0 -0.10000000149011612 -0.02500000037252903" rpy="1.5707963267948966 -0.0 0.0"/>
      <geometry>
        <cylinder radius="0.05" length="0.215"/>
      </geometry>
    </collision>
    <inertial>
      <origin xyz="0.0 0.0 0.0" rpy="0.0 -0.0 0.0"/>
      <mass value="0.0"/>
      <inertia ixx="0.0" ixy="0.0" ixz="0.0" iyy="0.0" iyz="0.0" izz="0.0"/>
    </inertial>
  </link>
  <link name="link42---top-sphere">
    <visual>
      <origin xyz="0 0 0" rpy="0.0 -0.0 0.0"/>
      <geometry>
        <sphere radius="0.05"/>
      </geometry>
      <material name="color-171-128-85-255">
        <color rgba="0.672940731048584 0.504705548286438 0.336470365524292 1.0"/>
      </material>
    </visual>
    <collision>
      <origin xyz="0.0 0.0 0.0" rpy="0.0 -0.0 0.0"/>
      <geometry>
        <sphere radius="0.05"/>
      </geometry>
    </collision>
    <inertial>
      <origin xyz="0 0 0" rpy="0.0 -0.0 0.0"/>
      <mass value="0.0"/>
      <inertia ixx="0" ixy="0.0" ixz="0.0" iyy="0" iyz="0.0" izz="0"/>
    </inertial>
  </link>
  <link name="link42---bottom-sphere">
    <visual>
      <origin xyz="0 0 0" rpy="0.0 -0.0 0.0"/>
      <geometry>
        <sphere radius="0.05"/>
      </geometry>
      <material name="color-171-128-85-255">
        <color rgba="0.672940731048584 0.504705548286438 0.336470365524292 1.0"/>
      </material>
    </visual>
    <collision>
      <origin xyz="0.0 0.0 0.0" rpy="0.0 -0.0 0.0"/>
      <geometry>
        <sphere radius="0.05"/>
      </geometry>
    </collision>
    <inertial>
      <origin xyz="0 0 0" rpy="0.0 -0.0 0.0"/>
      <mass value="0.0"/>
      <inertia ixx="0" ixy="0.0" ixz="0.0" iyy="0" iyz="0.0" izz="0"/>
    </inertial>
  </link>
  <joint name="base_link---top-sphere-fixed-joint" type="fixed">

    <parent link="base_link"/>
    <child link="base_link---top-sphere"/>
    <origin xyz="0 0 0.028" rpy="0.0 -0.0 0.0"/>
  </joint>
  <joint name="base_link---bottom-sphere-fixed-joint" type="fixed">

    <parent link="base_link"/>
    <child link="base_link---bottom-sphere"/>
    <origin xyz="0 0 -0.028" rpy="0.0 -0.0 0.0"/>
  </joint>
  <joint name="link3---top-sphere-fixed-joint" type="fixed">

    <parent link="link3"/>
    <child link="link3---top-sphere"/>
    <origin xyz="0 0 0.0158125" rpy="0.0 -0.0 0.0"/>
  </joint>
  <joint name="link3---bottom-sphere-fixed-joint" type="fixed">

    <parent link="link3"/>
    <child link="link3---bottom-sphere"/>
    <origin xyz="0 0 -0.0158125" rpy="0.0 -0.0 0.0"/>
  </joint>
  <joint name="link13---top-sphere-fixed-joint" type="fixed">

    <parent link="link13"/>
    <child link="link13---top-sphere"/>
    <origin xyz="0 0 0.1395" rpy="0.0 -0.0 0.0"/>
  </joint>
  <joint name="link13---bottom-sphere-fixed-joint" type="fixed">

    <parent link="link13"/>
    <child link="link13---bottom-sphere"/>
    <origin xyz="0 0 -0.1395" rpy="0.0 -0.0 0.0"/>
  </joint>
  <joint name="link15---top-sphere-fixed-joint" type="fixed">

    <parent link="link15"/>
    <child link="link15---top-sphere"/>
    <origin xyz="0 0 0.1285" rpy="0.0 -0.0 0.0"/>
  </joint>
  <joint name="link15---bottom-sphere-fixed-joint" type="fixed">

    <parent link="link15"/>
    <child link="link15---bottom-sphere"/>
    <origin xyz="0 0 -0.1285" rpy="0.0 -0.0 0.0"/>
  </joint>
  <joint name="link6---top-sphere-fixed-joint" type="fixed">

    <parent link="link6"/>
    <child link="link6---top-sphere"/>
    <origin xyz="0 0 0.0158125" rpy="0.0 -0.0 0.0"/>
  </joint>
  <joint name="link6---bottom-sphere-fixed-joint" type="fixed">

    <parent link="link6"/>
    <child link="link6---bottom-sphere"/>
    <origin xyz="0 0 -0.0158125" rpy="0.0 -0.0 0.0"/>
  </joint>
  <joint name="link20---top-sphere-fixed-joint" type="fixed">

    <parent link="link20"/>
    <child link="link20---top-sphere"/>
    <origin xyz="0 0 0.1395" rpy="0.0 -0.0 0.0"/>
  </joint>
  <joint name="link20---bottom-sphere-fixed-joint" type="fixed">

    <parent link="link20"/>
    <child link="link20---bottom-sphere"/>
    <origin xyz="0 0 -0.1395" rpy="0.0 -0.0 0.0"/>
  </joint>
  <joint name="link22---top-sphere-fixed-joint" type="fixed">

    <parent link="link22"/>
    <child link="link22---top-sphere"/>
    <origin xyz="0 0 0.1285" rpy="0.0 -0.0 0.0"/>
  </joint>
  <joint name="link22---bottom-sphere-fixed-joint" type="fixed">

    <parent link="link22"/>
    <child link="link22---bottom-sphere"/>
    <origin xyz="0 0 -0.1285" rpy="0.0 -0.0 0.0"/>
  </joint>
  <joint name="link7---top-sphere-fixed-joint" type="fixed">

    <parent link="link7"/>
    <child link="link7---top-sphere"/>
    <origin xyz="0 0 0.062" rpy="0.0 -0.0 0.0"/>
  </joint>
  <joint name="link7---bottom-sphere-fixed-joint" type="fixed">

    <parent link="link7"/>
    <child link="link7---bottom-sphere"/>
    <origin xyz="0 0 -0.062" rpy="0.0 -0.0 0.0"/>
  </joint>
  <joint name="link25---top-sphere-fixed-joint" type="fixed">

    <parent link="link25"/>
    <child link="link25---top-sphere"/>
    <origin xyz="0 0 0.0245" rpy="0.0 -0.0 0.0"/>
  </joint>
  <joint name="link25---bottom-sphere-fixed-joint" type="fixed">

    <parent link="link25"/>
    <child link="link25---bottom-sphere"/>
    <origin xyz="0 0 -0.0245" rpy="0.0 -0.0 0.0"/>
  </joint>
  <joint name="link28---top-sphere-fixed-joint" type="fixed">

    <parent link="link28"/>
    <child link="link28---top-sphere"/>
    <origin xyz="0 0 0.047" rpy="0.0 -0.0 0.0"/>
  </joint>
  <joint name="link28---bottom-sphere-fixed-joint" type="fixed">

    <parent link="link28"/>
    <child link="link28---bottom-sphere"/>
    <origin xyz="0 0 -0.047" rpy="0.0 -0.0 0.0"/>
  </joint>
  <joint name="link31---top-sphere-fixed-joint" type="fixed">

    <parent link="link31"/>
    <child link="link31---top-sphere"/>
    <origin xyz="0 0 0.212" rpy="0.0 -0.0 0.0"/>
  </joint>
  <joint name="link31---bottom-sphere-fixed-joint" type="fixed">

    <parent link="link31"/>
    <child link="link31---bottom-sphere"/>
    <origin xyz="0 0 -0.212" rpy="0.0 -0.0 0.0"/>
  </joint>
  <joint name="link32---top-sphere-fixed-joint" type="fixed">

    <parent link="link32"/>
    <child link="link32---top-sphere"/>
    <origin xyz="0 0 0.2015" rpy="0.0 -0.0 0.0"/>
  </joint>
  <joint name="link32---bottom-sphere-fixed-joint" type="fixed">

    <parent link="link32"/>
    <child link="link32---bottom-sphere"/>
    <origin xyz="0 0 -0.2015" rpy="0.0 -0.0 0.0"/>
  </joint>
  <joint name="link35---top-sphere-fixed-joint" type="fixed">

    <parent link="link35"/>
    <child link="link35---top-sphere"/>
    <origin xyz="0 0 0.1075" rpy="0.0 -0.0 0.0"/>
  </joint>
  <joint name="link35---bottom-sphere-fixed-joint" type="fixed">

    <parent link="link35"/>
    <child link="link35---bottom-sphere"/>
    <origin xyz="0 0 -0.1075" rpy="0.0 -0.0 0.0"/>
  </joint>
  <joint name="link38---top-sphere-fixed-joint" type="fixed">

    <parent link="link38"/>
    <child link="link38---top-sphere"/>
    <origin xyz="0 0 0.212" rpy="0.0 -0.0 0.0"/>
  </joint>
  <joint name="link38---bottom-sphere-fixed-joint" type="fixed">

    <parent link="link38"/>
    <child link="link38---bottom-sphere"/>
    <origin xyz="0 0 -0.212" rpy="0.0 -0.0 0.0"/>
  </joint>
  <joint name="link39---top-sphere-fixed-joint" type="fixed">

    <parent link="link39"/>
    <child link="link39---top-sphere"/>
    <origin xyz="0 0 0.2015" rpy="0.0 -0.0 0.0"/>
  </joint>
  <joint name="link39---bottom-sphere-fixed-joint" type="fixed">

    <parent link="link39"/>
    <child link="link39---bottom-sphere"/>
    <origin xyz="0 0 -0.2015" rpy="0.0 -0.0 0.0"/>
  </joint>
  <joint name="link42---top-sphere-fixed-joint" type="fixed">

    <parent link="link42"/>
    <child link="link42---top-sphere"/>
    <origin xyz="0 0 0.1075" rpy="0.0 -0.0 0.0"/>
  </joint>
  <joint name="link42---bottom-sphere-fixed-joint" type="fixed">

    <parent link="link42"/>
    <child link="link42---bottom-sphere"/>
    <origin xyz="0 0 -0.1075" rpy="0.0 -0.0 0.0"/>
  </joint>
  <joint name="joint1" type="revolute">

    <parent link="base_link"/>
    <child link="link1"/>
    <origin xyz="0.0 0.0 0.07075" rpy="0.0 -0.0 0.0"/>
    <axis xyz="1.0 0.0 0.0"/>
        <limit effort="0.0" velocity="0.0" lower="-0.17453292519943295" upper="0.17453292519943295"/>

  </joint>
  <joint name="joint2" type="revolute">

    <parent link="link1"/>
    <child link="link2"/>
    <origin xyz="0.0 0.0 0.07075" rpy="0.0 -0.0 0.0"/>
    <axis xyz="0.0 1.0 0.0"/>
        <limit effort="0.0" velocity="0.0" lower="-0.17453292519943295" upper="0.5235987755982988"/>

  </joint>
  <joint name="joint3" type="revolute">

    <parent link="link2"/>
    <child link="link3"/>
    <origin xyz="0.0 0.0 0.0" rpy="0.0 -0.0 0.0"/>
    <axis xyz="0.0 0.0 1.0"/>
        <limit effort="0.0" velocity="0.0" lower="-0.6108652381980153" upper="0.6108652381980153"/>

  </joint>
  <joint name="joint11" type="revolute">

    <parent link="link3"/>
    <child link="link11"/>
    <origin xyz="-0.179 0.0 0.0" rpy="0.0 -0.0 0.0"/>
    <axis xyz="0.0 1.0 0.0"/>
        <limit effort="0.0" velocity="0.0" lower="0.08726646259971647" upper="3.4557519189487724"/>

  </joint>
  <joint name="joint12" type="revolute">

    <parent link="link11"/>
    <child link="link12"/>
    <origin xyz="0.0 0.0 0.0" rpy="0.0 -0.0 0.0"/>
    <axis xyz="1.0 0.0 0.0"/>
        <limit effort="0.0" velocity="0.0" lower="-3.2812189937493397" upper="1.064650843716541"/>

  </joint>
  <joint name="joint13" type="revolute">

    <parent link="link12"/>
    <child link="link13"/>
    <origin xyz="0.0 0.0 0.0" rpy="0.0 -0.0 0.0"/>
    <axis xyz="0.0 0.0 1.0"/>
        <limit effort="0.0" velocity="0.0" lower="-1.5707963267948966" upper="1.5707963267948966"/>

  </joint>
  <joint name="joint14" type="revolute">

    <parent link="link13"/>
    <child link="link14"/>
    <origin xyz="0.0 0.0 -0.279" rpy="0.0 -0.0 0.0"/>
    <axis xyz="1.0 0.0 0.0"/>
        <limit effort="0.0" velocity="0.0" lower="-2.234021442552742" upper="0.0"/>

  </joint>
  <joint name="joint15" type="revolute">

    <parent link="link14"/>
    <child link="link15"/>
    <origin xyz="0.0 0.0 0.0" rpy="0.0 -0.0 0.0"/>
    <axis xyz="0.0 0.0 1.0"/>
        <limit effort="0.0" velocity="0.0" lower="-1.5707963267948966" upper="1.5707963267948966"/>

  </joint>
  <joint name="joint16" type="revolute">

    <parent link="link15"/>
    <child link="link16"/>
    <origin xyz="0.0 0.0 -0.29000000000000004" rpy="0.0 -0.0 0.0"/>
    <axis xyz="1.0 0.0 0.0"/>
        <limit effort="0.0" velocity="0.0" lower="-1.413716694115407" upper="1.5707963267948966"/>

  </joint>
  <joint name="joint17" type="revolute">

    <parent link="link16"/>
    <child link="link17"/>
    <origin xyz="0.0 0.0 0.0" rpy="0.0 -0.0 0.0"/>
    <axis xyz="0.0 1.0 0.0"/>
        <limit effort="0.0" velocity="0.0" lower="-0.47123889803846897" upper="0.8203047484373349"/>

  </joint>
  <joint name="joint4" type="revolute">

    <parent link="base_link"/>
    <child link="link4"/>
    <origin xyz="0.0 0.0 0.07075" rpy="0.0 -0.0 0.0"/>
    <axis xyz="1.0 0.0 0.0"/>
        <limit effort="0.0" velocity="0.0" lower="-0.17453292519943295" upper="0.17453292519943295"/>

  </joint>
  <joint name="joint5" type="revolute">

    <parent link="link4"/>
    <child link="link5"/>
    <origin xyz="0.0 0.0 0.07075" rpy="0.0 -0.0 0.0"/>
    <axis xyz="0.0 1.0 0.0"/>
        <limit effort="0.0" velocity="0.0" lower="-0.5235987755982988" upper="0.17453292519943295"/>

  </joint>
  <joint name="joint6" type="revolute">

    <parent link="link5"/>
    <child link="link6"/>
    <origin xyz="0.0 0.0 0.0" rpy="0.0 -0.0 0.0"/>
    <axis xyz="0.0 0.0 1.0"/>
        <limit effort="0.0" velocity="0.0" lower="-0.6108652381980153" upper="0.6108652381980153"/>

  </joint>
  <joint name="joint18" type="revolute">

    <parent link="link6"/>
    <child link="link18"/>
    <origin xyz="0.179 0.0 0.0" rpy="0.0 -0.0 0.0"/>
    <axis xyz="0.0 1.0 0.0"/>
        <limit effort="0.0" velocity="0.0" lower="-3.4557519189487724" upper="-0.08726646259971647"/>

  </joint>
  <joint name="joint19" type="revolute">

    <parent link="link18"/>
    <child link="link19"/>
    <origin xyz="0.0 0.0 0.0" rpy="0.0 -0.0 0.0"/>
    <axis xyz="1.0 0.0 0.0"/>
        <limit effort="0.0" velocity="0.0" lower="-3.2812189937493397" upper="1.064650843716541"/>

  </joint>
  <joint name="joint20" type="revolute">

    <parent link="link19"/>
    <child link="link20"/>
    <origin xyz="0.0 0.0 0.0" rpy="0.0 -0.0 0.0"/>
    <axis xyz="0.0 0.0 1.0"/>
        <limit effort="0.0" velocity="0.0" lower="-1.5707963267948966" upper="1.5707963267948966"/>

  </joint>
  <joint name="joint21" type="revolute">

    <parent link="link20"/>
    <child link="link21"/>
    <origin xyz="0.0 0.0 -0.279" rpy="0.0 -0.0 0.0"/>
    <axis xyz="1.0 0.0 0.0"/>
        <limit effort="0.0" velocity="0.0" lower="-2.234021442552742" upper="0.0"/>

  </joint>
  <joint name="joint22" type="revolute">

    <parent link="link21"/>
    <child link="link22"/>
    <origin xyz="0.0 0.0 0.0" rpy="0.0 -0.0 0.0"/>
    <axis xyz="0.0 0.0 1.0"/>
        <limit effort="0.0" velocity="0.0" lower="-1.5707963267948966" upper="1.5707963267948966"/>

  </joint>
  <joint name="joint23" type="revolute">

    <parent link="link22"/>
    <child link="link23"/>
    <origin xyz="0.0 0.0 -0.29000000000000004" rpy="0.0 -0.0 0.0"/>
    <axis xyz="1.0 0.0 0.0"/>
        <limit effort="0.0" velocity="0.0" lower="-1.413716694115407" upper="1.5707963267948966"/>

  </joint>
  <joint name="joint24" type="revolute">

    <parent link="link23"/>
    <child link="link24"/>
    <origin xyz="0.0 0.0 0.0" rpy="0.0 -0.0 0.0"/>
    <axis xyz="0.0 1.0 0.0"/>
        <limit effort="0.0" velocity="0.0" lower="-0.8203047484373349" upper="0.47123889803846897"/>

  </joint>
  <joint name="joint7" type="revolute">

    <parent link="base_link"/>
    <child link="link7"/>
    <origin xyz="0.0 0.0 0.1515" rpy="0.0 -0.0 0.0"/>
    <axis xyz="1.0 0.0 0.0"/>
        <limit effort="0.0" velocity="0.0" lower="-0.17453292519943295" upper="0.3490658503988659"/>

  </joint>
  <joint name="joint8" type="revolute">

    <parent link="link7"/>
    <child link="link8"/>
    <origin xyz="0.0 0.0 0.13700000000000007" rpy="0.0 -0.0 0.0"/>
    <axis xyz="1.0 0.0 0.0"/>
        <limit effort="0.0" velocity="0.0" lower="-0.8726646259971648" upper="0.8726646259971648"/>

  </joint>
  <joint name="joint9" type="revolute">

    <parent link="link8"/>
    <child link="link9"/>
    <origin xyz="0.0 0.0 0.0" rpy="0.0 -0.0 0.0"/>
    <axis xyz="0.0 1.0 0.0"/>
        <limit effort="0.0" velocity="0.0" lower="-0.5934119456780721" upper="0.5934119456780721"/>

  </joint>
  <joint name="joint10" type="revolute">

    <parent link="link9"/>
    <child link="link10"/>
    <origin xyz="0.0 0.0 0.0" rpy="0.0 -0.0 0.0"/>
    <axis xyz="0.0 0.0 1.0"/>
        <limit effort="0.0" velocity="0.0" lower="-1.2217304763960306" upper="1.2217304763960306"/>

  </joint>
  <joint name="joint25" type="fixed">

    <parent link="base_link"/>
    <child link="link25"/>
    <origin xyz="0.0 0.0 -0.156" rpy="0.0 -0.0 0.0"/>
  </joint>
  <joint name="joint26" type="revolute">

    <parent link="link25"/>
    <child link="link26"/>
    <origin xyz="0.0 0.0 -0.08125" rpy="0.0 -0.0 0.0"/>
    <axis xyz="1.0 0.0 0.0"/>
        <limit effort="0.0" velocity="0.0" lower="-1.3089969389957472" upper="0.5235987755982988"/>

  </joint>
  <joint name="joint27" type="revolute">

    <parent link="link26"/>
    <child link="link27"/>
    <origin xyz="0.0 0.0 0.0" rpy="0.0 -0.0 0.0"/>
    <axis xyz="0.0 1.0 0.0"/>
        <limit effort="0.0" velocity="0.0" lower="-0.5235987755982988" upper="0.5235987755982988"/>

  </joint>
  <joint name="joint28" type="revolute">

    <parent link="link27"/>
    <child link="link28"/>
    <origin xyz="0.0 0.0 0.0" rpy="0.0 -0.0 0.0"/>
    <axis xyz="0.0 0.0 1.0"/>
        <limit effort="0.0" velocity="0.0" lower="-0.5235987755982988" upper="0.5235987755982988"/>

  </joint>
  <joint name="joint29" type="revolute">

    <parent link="link28"/>
    <child link="link29"/>
    <origin xyz="-0.089 0.0 -0.08125" rpy="0.0 -0.0 0.0"/>
    <axis xyz="1.0 0.0 0.0"/>
        <limit effort="0.0" velocity="0.0" lower="-2.2165681500327987" upper="0.5235987755982988"/>

  </joint>
  <joint name="joint30" type="revolute">

    <parent link="link29"/>
    <child link="link30"/>
    <origin xyz="0.0 0.0 0.0" rpy="0.0 -0.0 0.0"/>
    <axis xyz="0.0 1.0 0.0"/>
        <limit effort="0.0" velocity="0.0" lower="-0.6981317007977318" upper="0.7853981633974483"/>

  </joint>
  <joint name="joint31" type="revolute">

    <parent link="link30"/>
    <child link="link31"/>
    <origin xyz="0.0 0.0 0.0" rpy="0.0 -0.0 0.0"/>
    <axis xyz="0.0 0.0 1.0"/>
        <limit effort="0.0" velocity="0.0" lower="-0.7853981633974483" upper="0.6981317007977318"/>

  </joint>
  <joint name="joint32" type="revolute">

    <parent link="link31"/>
    <child link="link32"/>
    <origin xyz="0.0 0.0 -0.424" rpy="0.0 -0.0 0.0"/>
    <axis xyz="1.0 0.0 0.0"/>
        <limit effort="0.0" velocity="0.0" lower="0.0" upper="2.2689280275926285"/>

  </joint>
  <joint name="joint33" type="revolute">

    <parent link="link32"/>
    <child link="link33"/>
    <origin xyz="0.0 0.0 -0.42800000000000005" rpy="0.0 -0.0 0.0"/>
    <axis xyz="1.0 0.0 0.0"/>
        <limit effort="0.0" velocity="0.0" lower="-0.6108652381980153" upper="0.6632251157578453"/>

  </joint>
  <joint name="joint34" type="revolute">

    <parent link="link33"/>
    <child link="link34"/>
    <origin xyz="0.0 0.0 0.0" rpy="0.0 -0.0 0.0"/>
    <axis xyz="0.0 1.0 0.0"/>
        <limit effort="0.0" velocity="0.0" lower="-0.4014257279586958" upper="0.4188790204786391"/>

  </joint>
  <joint name="joint35" type="revolute">

    <parent link="link34"/>
    <child link="link35"/>
    <origin xyz="0.0 0.0 0.0" rpy="0.0 -0.0 0.0"/>
    <axis xyz="0.0 0.0 1.0"/>
        <limit effort="0.0" velocity="0.0" lower="-0.7504915783575618" upper="0.6108652381980153"/>

  </joint>
  <joint name="joint36" type="revolute">

    <parent link="link28"/>
    <child link="link36"/>
    <origin xyz="0.089 0.0 -0.08125" rpy="0.0 -0.0 0.0"/>
    <axis xyz="1.0 0.0 0.0"/>
        <limit effort="0.0" velocity="0.0" lower="-2.2165681500327987" upper="0.5235987755982988"/>

  </joint>
  <joint name="joint37" type="revolute">

    <parent link="link36"/>
    <child link="link37"/>
    <origin xyz="0.0 0.0 0.0" rpy="0.0 -0.0 0.0"/>
    <axis xyz="0.0 1.0 0.0"/>
        <limit effort="0.0" velocity="0.0" lower="-0.7853981633974483" upper="0.6981317007977318"/>

  </joint>
  <joint name="joint38" type="revolute">

    <parent link="link37"/>
    <child link="link38"/>
    <origin xyz="0.0 0.0 0.0" rpy="0.0 -0.0 0.0"/>
    <axis xyz="0.0 0.0 1.0"/>
        <limit effort="0.0" velocity="0.0" lower="-0.6981317007977318" upper="0.7853981633974483"/>

  </joint>
  <joint name="joint39" type="revolute">

    <parent link="link38"/>
    <child link="link39"/>
    <origin xyz="0.0 0.0 -0.424" rpy="0.0 -0.0 0.0"/>
    <axis xyz="1.0 0.0 0.0"/>
        <limit effort="0.0" velocity="0.0" lower="0.0" upper="2.2689280275926285"/>

  </joint>
  <joint name="joint40" type="revolute">

    <parent link="link39"/>
    <child link="link40"/>
    <origin xyz="0.0 0.0 -0.42800000000000005" rpy="0.0 -0.0 0.0"/>
    <axis xyz="1.0 0.0 0.0"/>
        <limit effort="0.0" velocity="0.0" lower="-0.6108652381980153" upper="0.6632251157578453"/>

  </joint>
  <joint name="joint41" type="revolute">

    <parent link="link40"/>
    <child link="link41"/>
    <origin xyz="0.0 0.0 0.0" rpy="0.0 -0.0 0.0"/>
    <axis xyz="0.0 1.0 0.0"/>
        <limit effort="0.0" velocity="0.0" lower="-0.4188790204786391" upper="0.4014257279586958"/>

  </joint>
  <joint name="joint42" type="revolute">

    <parent link="link41"/>
    <child link="link42"/>
    <origin xyz="0.0 0.0 0.0" rpy="0.0 -0.0 0.0"/>
    <axis xyz="0.0 0.0 1.0"/>
        <limit effort="0.0" velocity="0.0" lower="-0.6108652381980153" upper="0.7504915783575618"/>

  </joint>
</robot>
